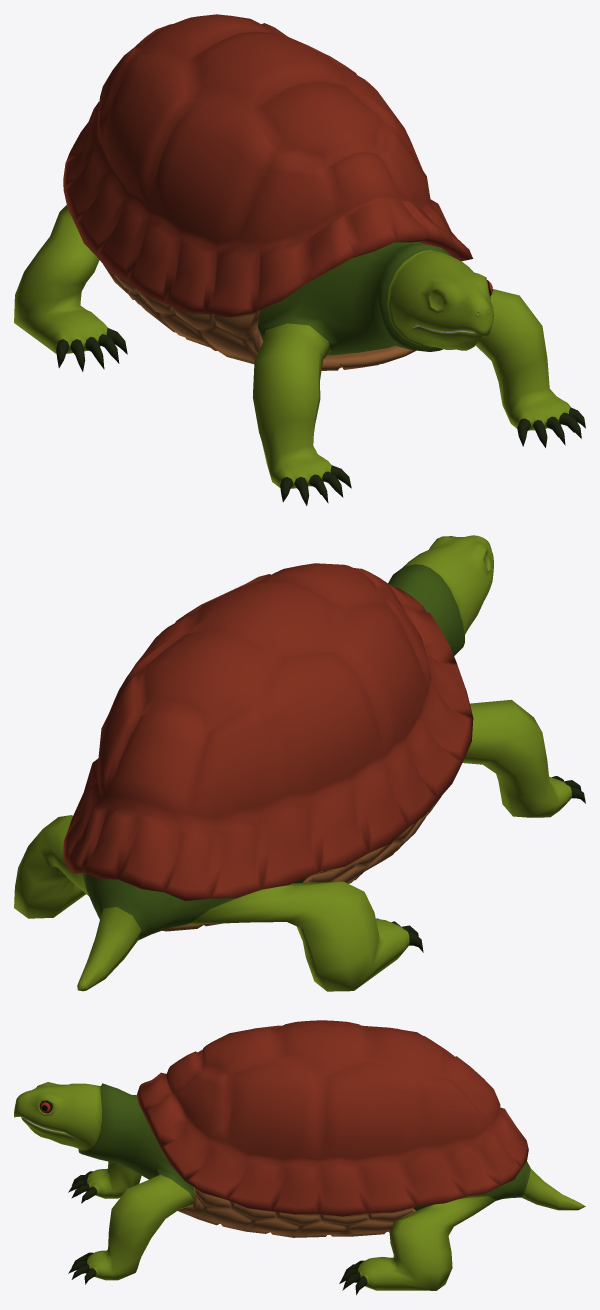
The model's file is tortoise.obj.
3 views of the same model, one above another, from view 1: azimuth 30°, elevation 25°; view 2: azimuth 150°, elevation 25°; view 3: azimuth 270°, elevation 25° (orthographic). The views are drawn at different scales.
Parts seen in each view (by area): view 1: tortoise_shell, tortoise; view 2: tortoise_shell, tortoise; view 3: tortoise_shell, tortoise.
Boxes of the visible parts, x1=… form: tortoise_shell: x1=63, y1=14, x2=472, y2=370; tortoise: x1=14, y1=205, x2=585, y2=505; tortoise_shell: x1=63, y1=563, x2=473, y2=931; tortoise: x1=14, y1=535, x2=585, y2=991; tortoise_shell: x1=137, y1=1020, x2=528, y2=1237; tortoise: x1=14, y1=1082, x2=585, y2=1295.
Size of the model in its own units: 0.1877 by 0.1454 by 0.3636.
